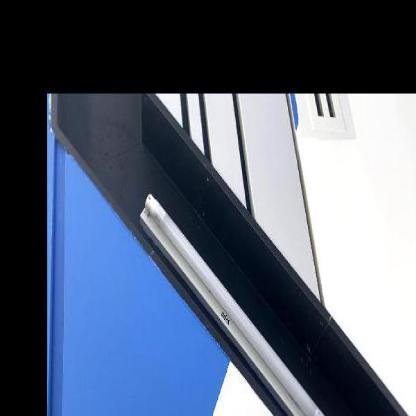light_off: (133, 182, 340, 415)
